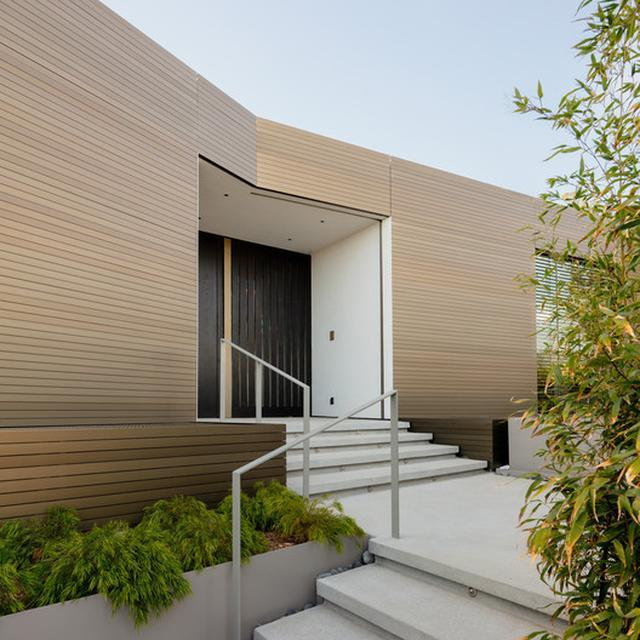building: (1, 0, 603, 523)
